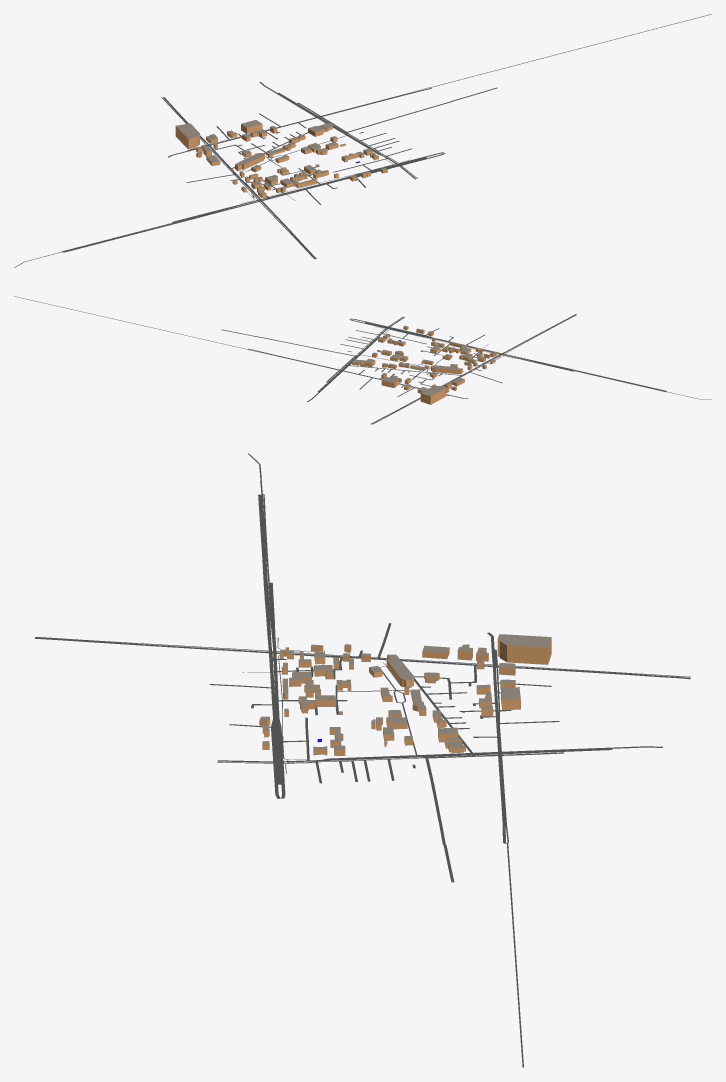
File: Amirkabir.fbx
3 views of the same model, one above another, from view 1: azimuth 30°, elevation 25°; view 2: azimuth 150°, elevation 25°; view 3: azimuth 270°, elevation 25° (orthographic). The views are drawn at different scales.
Parts seen in each view (by area): view 1: مسیر ویژه اتوبوس, مجتمع تجاری نور تهران; view 2: مجتمع تجاری نور تهران, مسیر ویژه اتوبوس, دانشکده مهندسی برق و دانشکده مهندس, انقلاب اسلامی.004; view 3: مجتمع تجاری نور تهران.
Part boxes in pixels (bbox=[...]): مسیر ویژه اتوبوس: bbox=[207, 14, 711, 145]; مجتمع تجاری نور تهران: bbox=[175, 123, 199, 148]; مجتمع تجاری نور تهران: bbox=[420, 386, 446, 404]; مسیر ویژه اتوبوس: bbox=[14, 296, 418, 388]; دانشکده مهندسی برق و دانشکده مهندس: bbox=[431, 365, 462, 374]; انقلاب اسلامی.004: bbox=[502, 353, 666, 391]; مجتمع تجاری نور تهران: bbox=[497, 634, 551, 664].
Size of the model in its own units: 385578 by 5000 by 174174.
